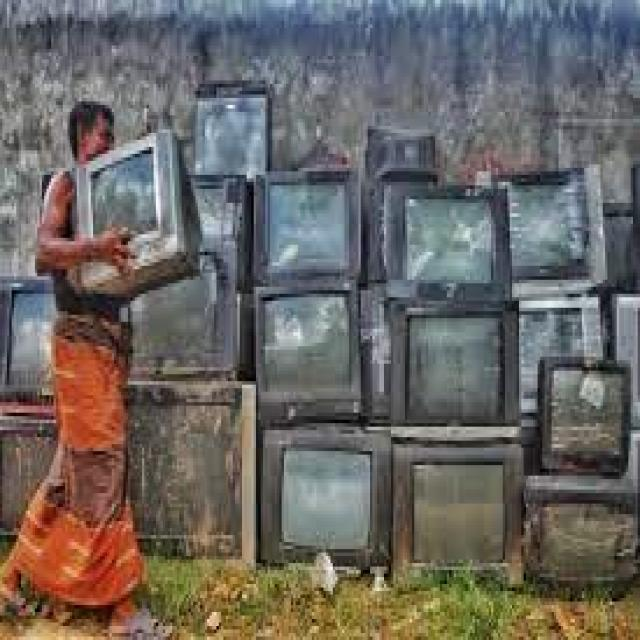hazard: (200, 89, 640, 574)
